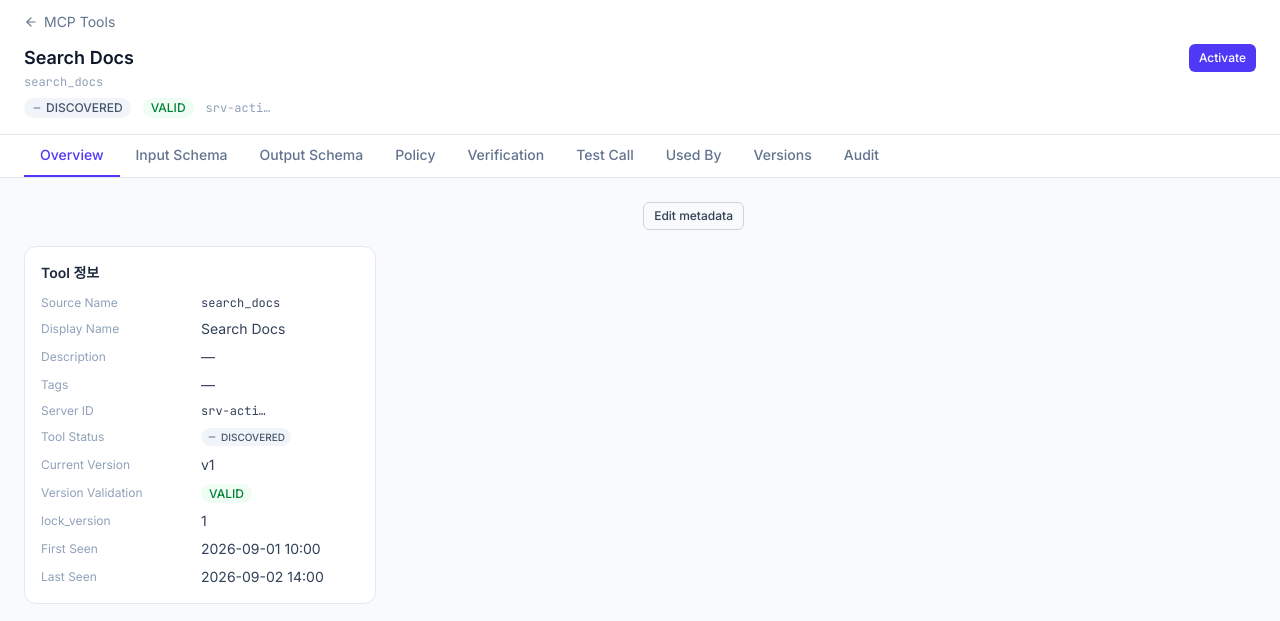
MCPToolDetail — API detail › lists versions and loads selected version schemas
expect the heading "Search Docs" is shown: met, box [24, 47, 134, 68]
Click the button "Versions". click: click(783, 156)
box: [738, 135, 828, 177]
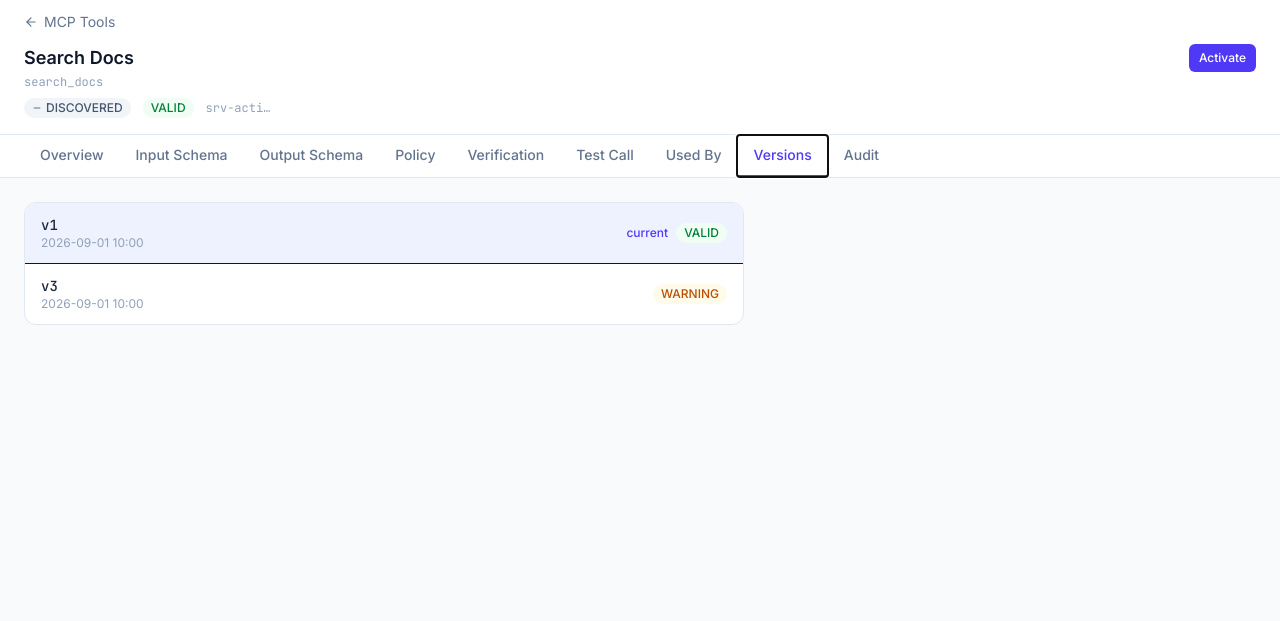
Click the text "v3". click: click(49, 286)
box: [41, 277, 58, 295]
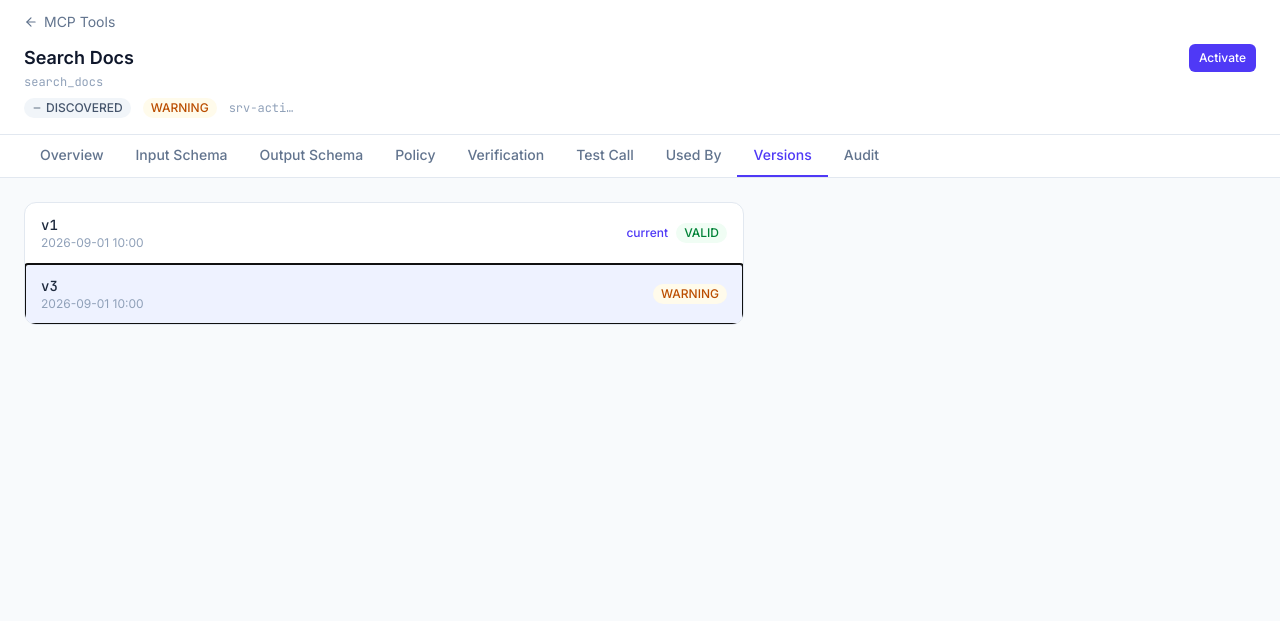
expect the text "WARNING" next to "srv-acti…" is shown: met, box [151, 100, 209, 115]
